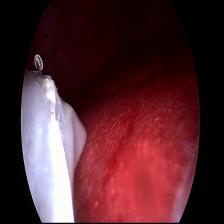Specimen Bag: (22, 53, 88, 224)
